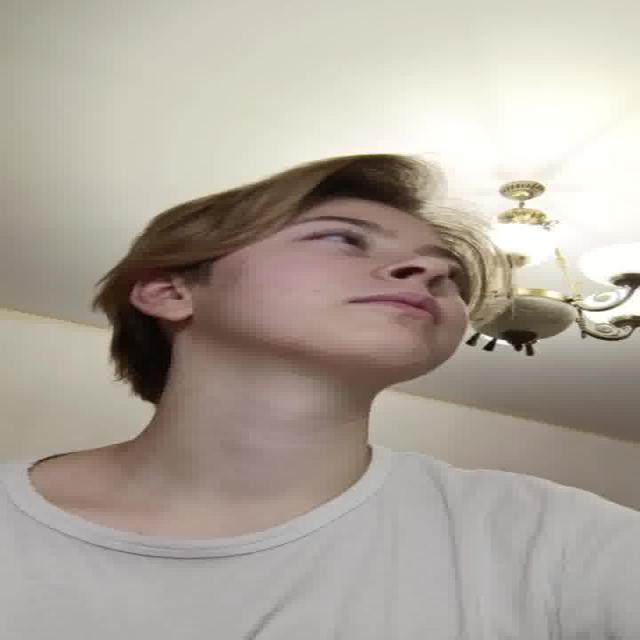earlobe: (128, 274, 195, 323)
